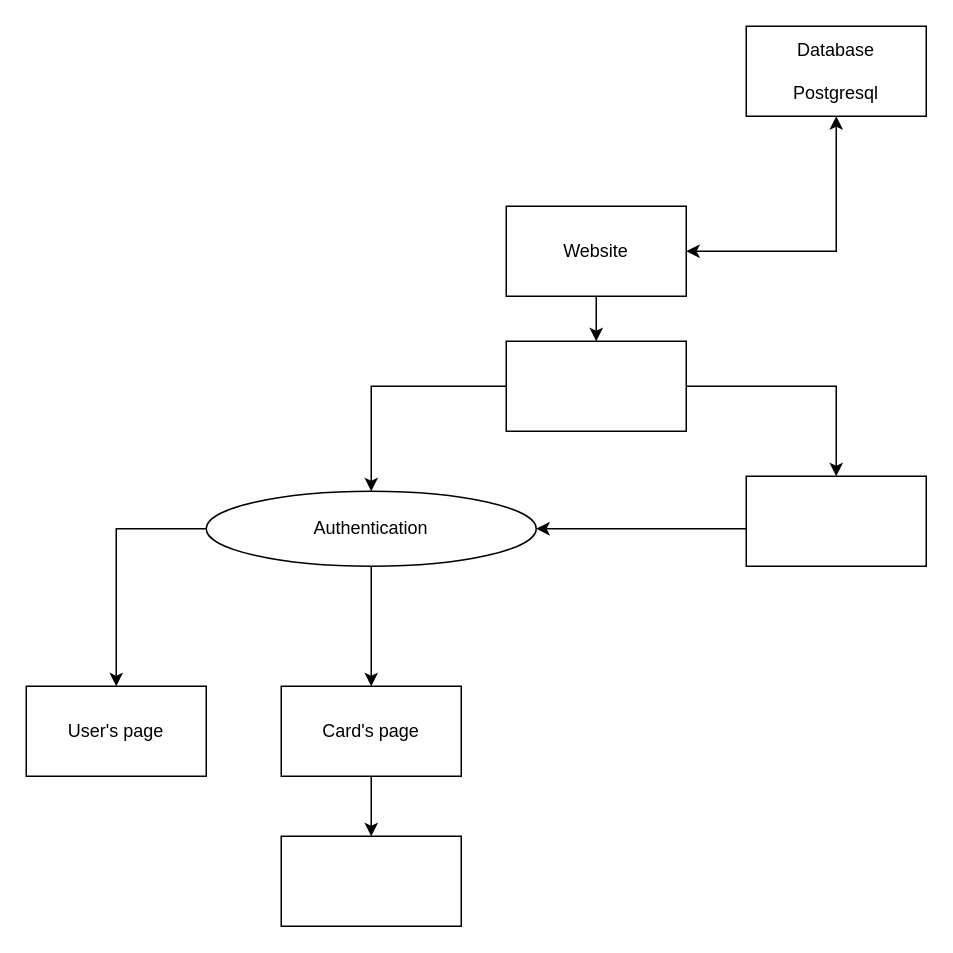
The diagram is 953 pixels wide and 953 high, and some of its shapes have lost their labels. The shapes that lost their labels are listed below. From the top down, each one's centre as x and y in pixels, then its label:
At [595,385]: "Main page".
At [835,520]: "Product page".
At [370,880]: "Buy's page".
